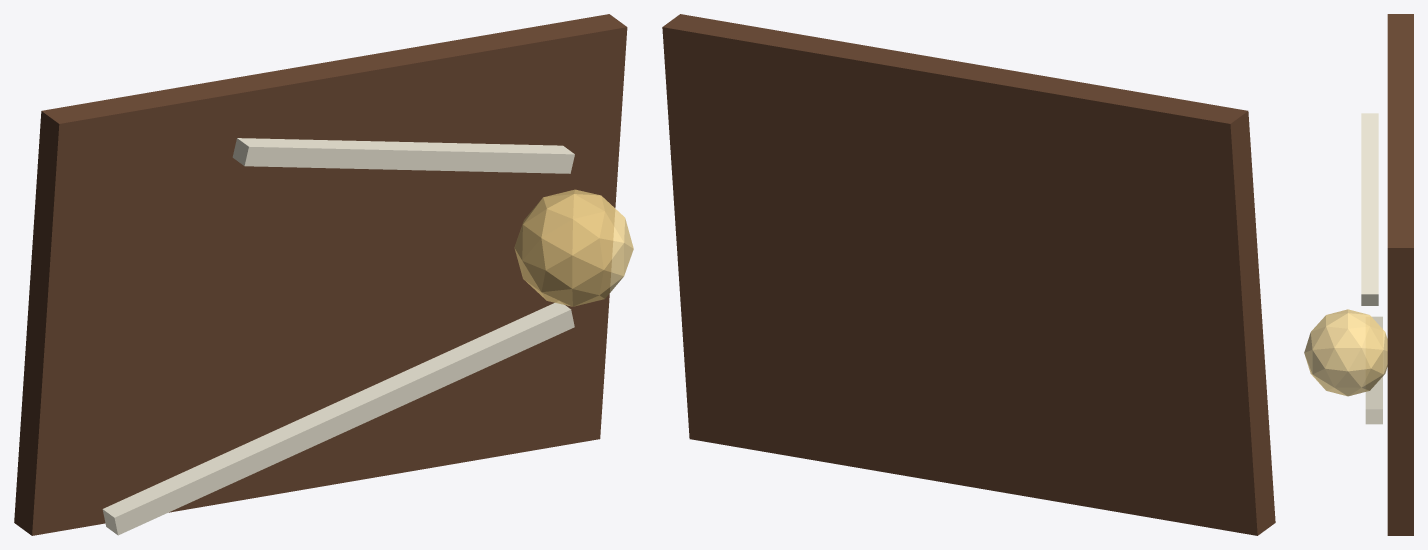
Rendered from 02_world_prop_polish.glb.
The picture shows the model from 3 angles, left to right: view 1: azimuth 30°, elevation 25°; view 2: azimuth 150°, elevation 25°; view 3: azimuth 270°, elevation 25°; orthographic projection. The views are drawn at different scales.
Visible parts, largest first — view 1: object_overlay_plate, edge_wear_a, glow_socket, edge_wear_b; view 2: object_overlay_plate; view 3: object_overlay_plate, glow_socket, edge_wear_b, edge_wear_a.
Boxes of the visible parts, box(x1,y1,x2,y2) form: object_overlay_plate: box(14, 14, 627, 535); edge_wear_a: box(102, 302, 574, 535); glow_socket: box(514, 189, 633, 306); edge_wear_b: box(232, 138, 574, 173); object_overlay_plate: box(662, 14, 1275, 535); object_overlay_plate: box(1387, 14, 1413, 535); glow_socket: box(1304, 309, 1387, 396); edge_wear_b: box(1361, 113, 1378, 305); edge_wear_a: box(1365, 316, 1382, 424).
Size of the model in its own units: 1.15 by 0.8252 by 0.25.
